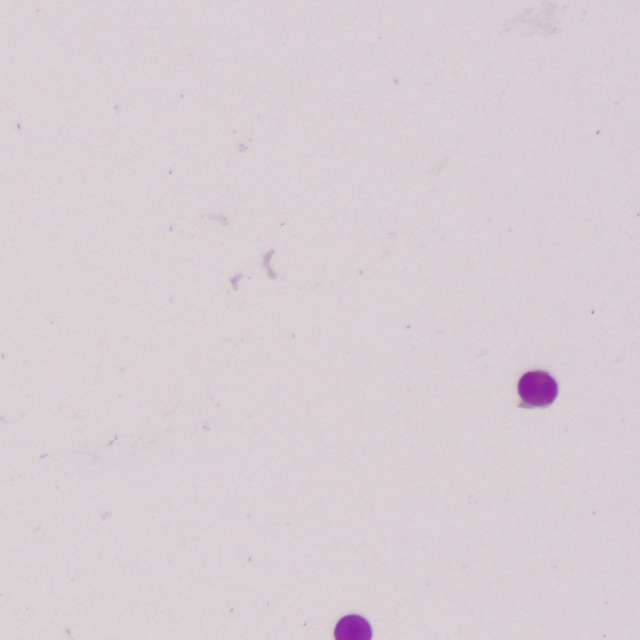viable: (518, 372, 557, 406), (335, 616, 371, 639)
